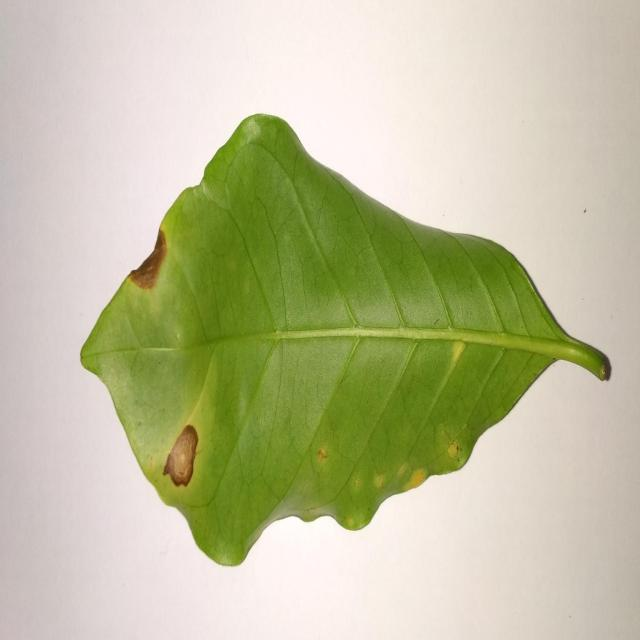Enfermedad-Mancha-de-hierro: (78, 115, 613, 571)
